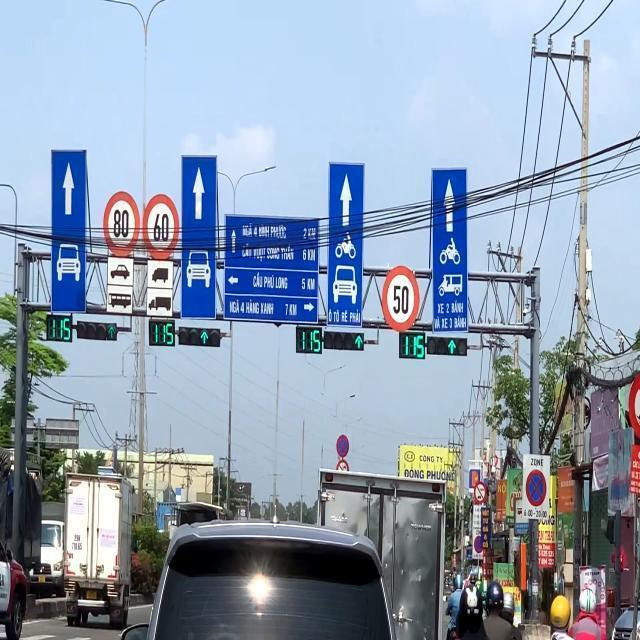127-toc-do-toi-da-50: (381, 265, 421, 330)
127-toc-do-toi-da-60: (142, 192, 180, 257)
127-toc-do-toi-da-80: (102, 190, 142, 254)
130-cam-dung-va-do-xe: (525, 470, 547, 504), (336, 434, 350, 457)
